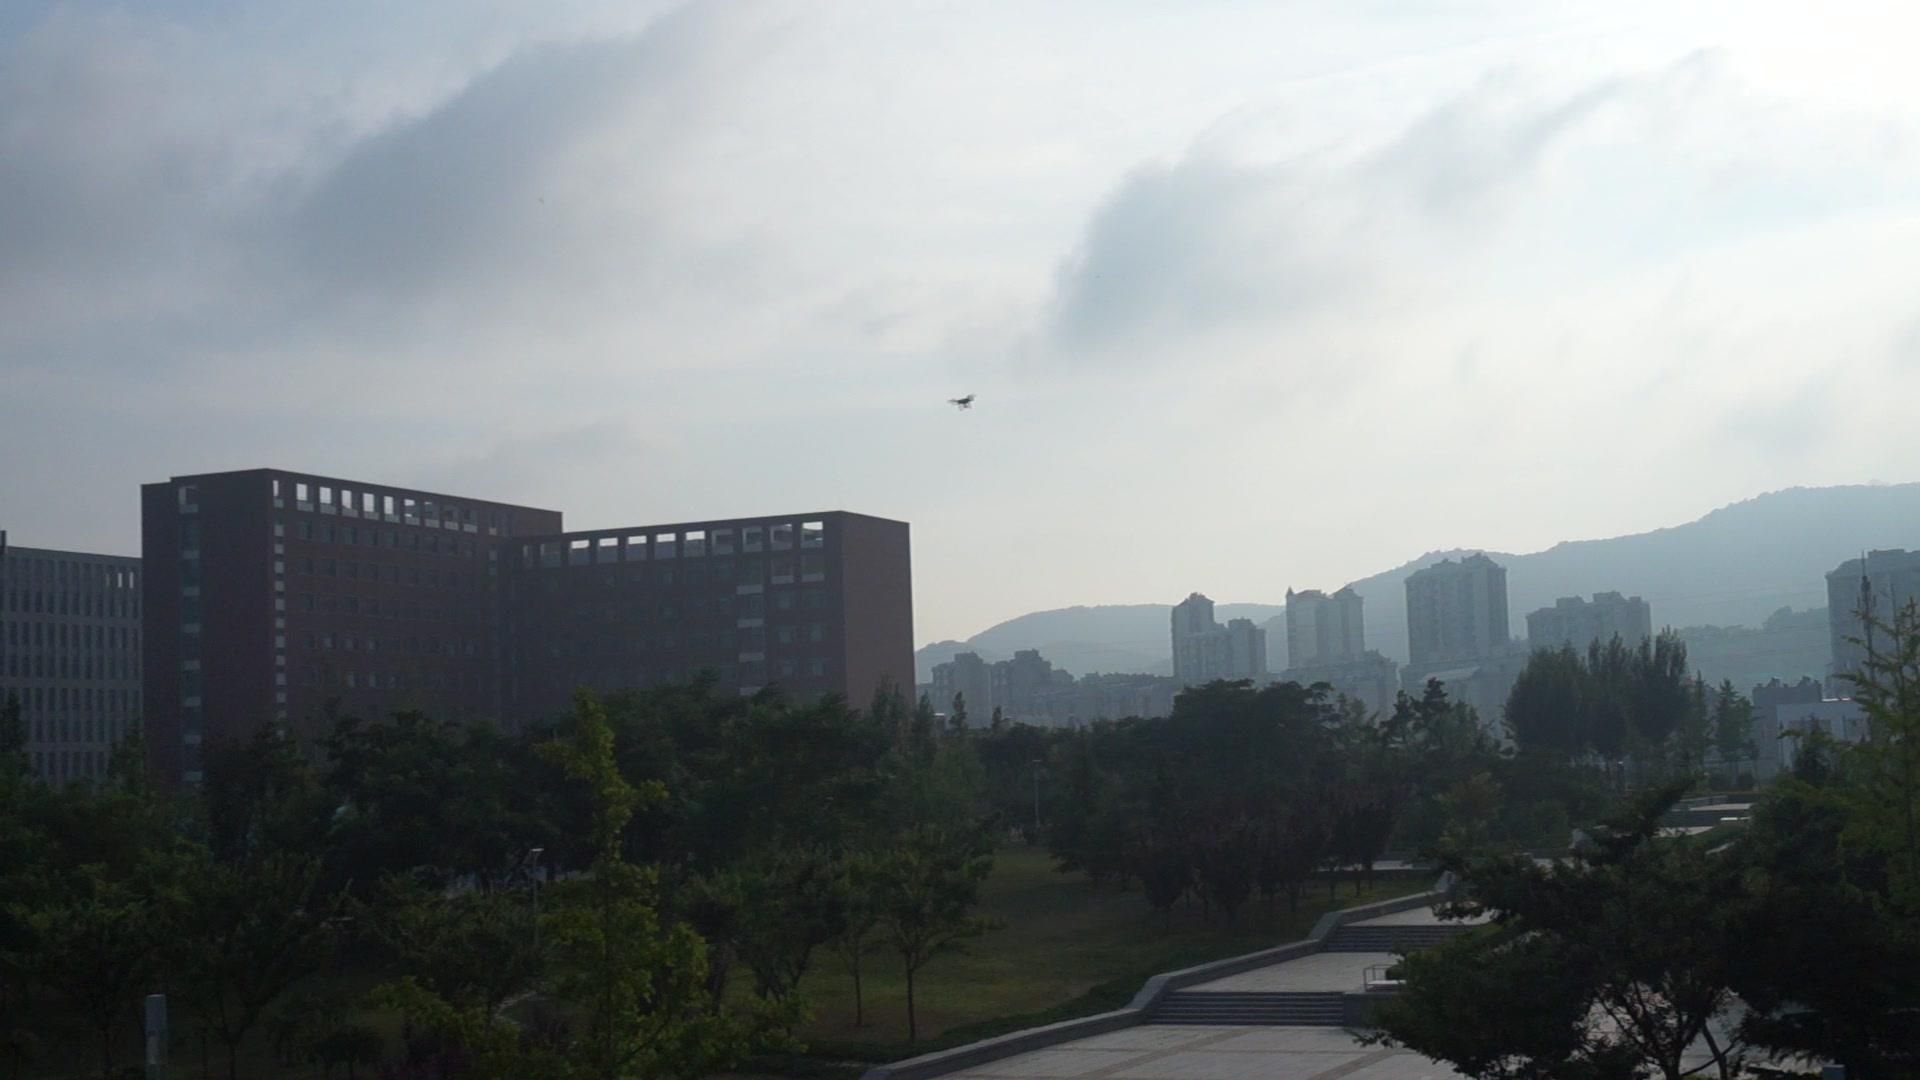UAV: (947, 396, 980, 411)
